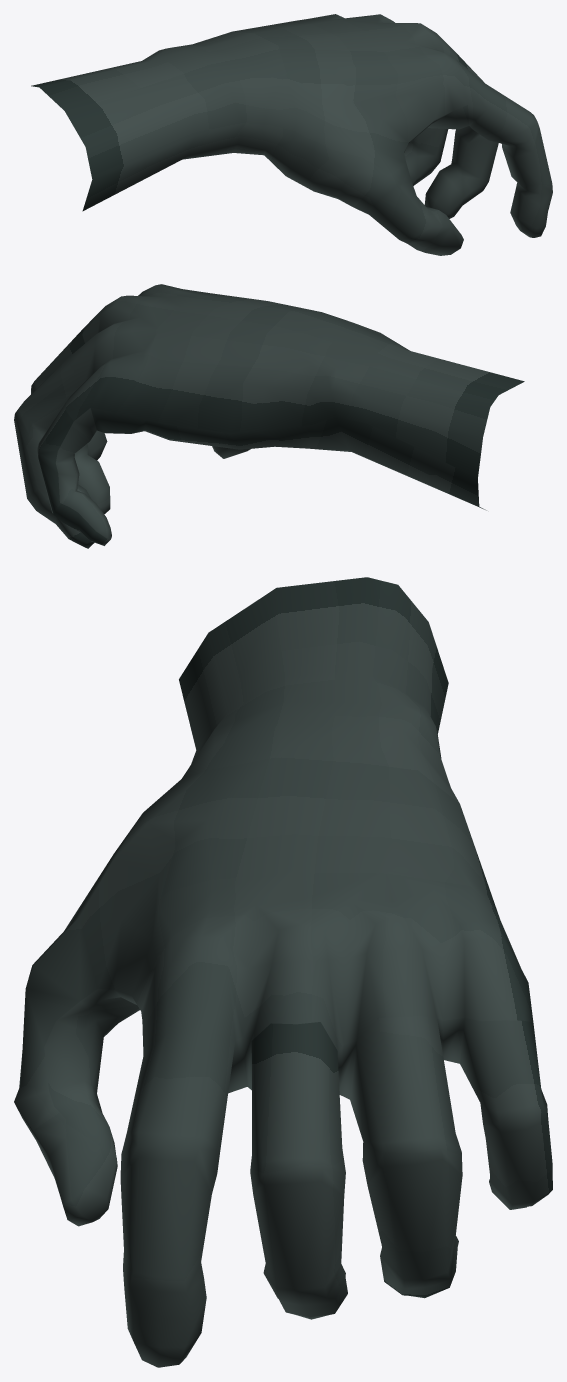
Rendered from viewmodel_hands.glb.
The picture shows the model from 3 angles, top to bottom: view 1: azimuth 30°, elevation 25°; view 2: azimuth 150°, elevation 25°; view 3: azimuth 270°, elevation 25°; orthographic projection. The views are drawn at different scales.
Size of the model in its own units: 9.03 by 4.24 by 5.02.
Materials: 1 (1 with a texture image).
